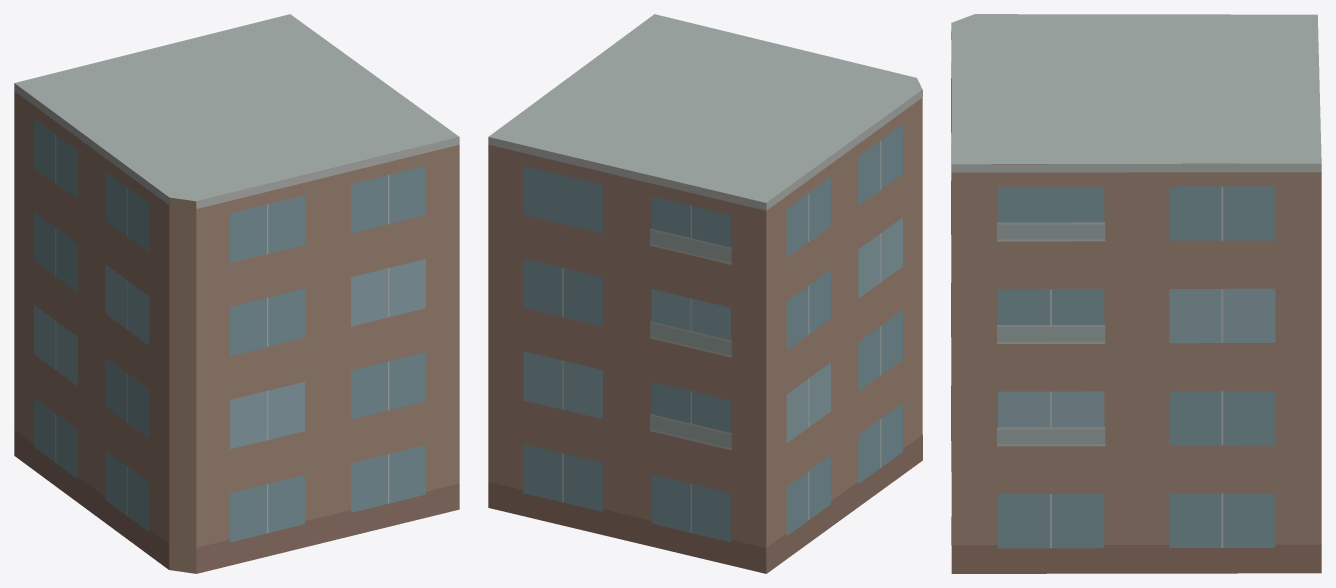
Rendered from survey-upis-32554177.glb.
3 views of the same model, side by side, from view 1: azimuth 30°, elevation 25°; view 2: azimuth 150°, elevation 25°; view 3: azimuth 270°, elevation 25° (orthographic). The views are drawn at different scales.
Visible parts, largest first — view 1: survey-upis-32554177.tmp; view 2: survey-upis-32554177.tmp; view 3: survey-upis-32554177.tmp.
Part boxes in pixels (x1,y1,x2,y2): survey-upis-32554177.tmp: (14,14,459,573); survey-upis-32554177.tmp: (488,14,922,573); survey-upis-32554177.tmp: (951,14,1321,573).
Size of the model in its own units: 9.16 by 11.6 by 9.52.
